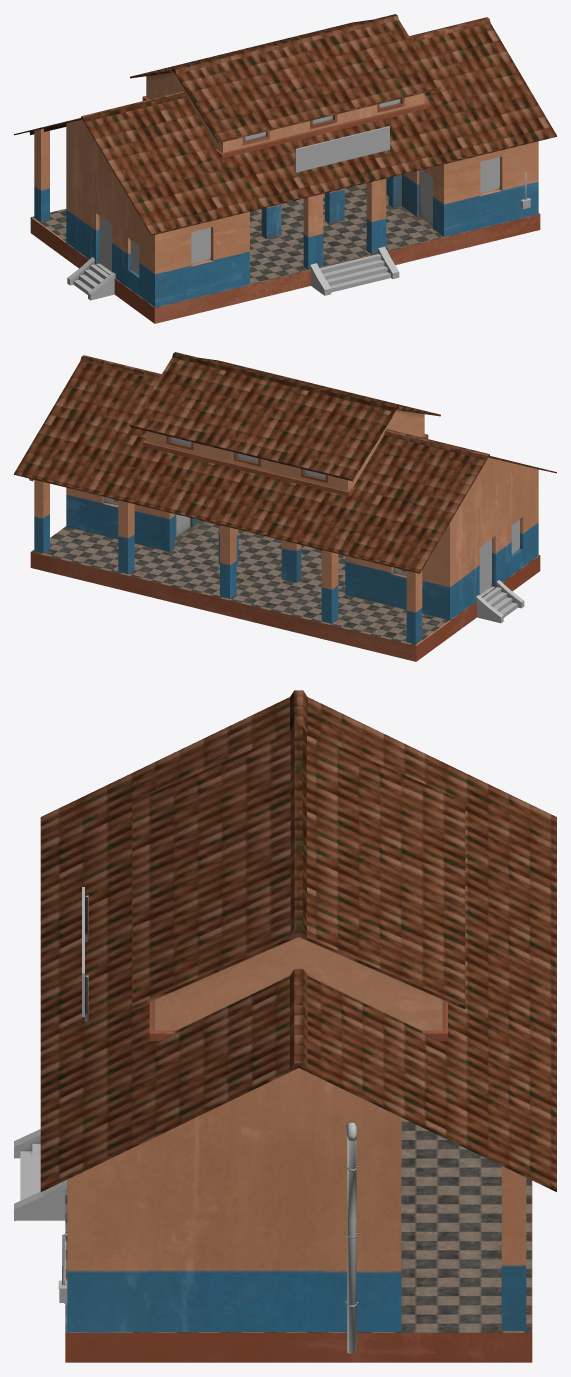
Rendered from indian_railway_station_building_game-ready.glb.
3 views of the same model, one above another, from view 1: azimuth 30°, elevation 25°; view 2: azimuth 150°, elevation 25°; view 3: azimuth 270°, elevation 25° (orthographic). The views are drawn at different scales.
Parts seen in each view (by area): view 1: Plane.004; view 2: Plane.004; view 3: Plane.004.
Boxes of the visible parts, left/top/right/bottom form: Plane.004: left=14, top=14, right=556, bottom=323; Plane.004: left=14, top=352, right=556, bottom=661; Plane.004: left=14, top=690, right=556, bottom=1362.
Size of the model in its own units: 1774 by 766 by 1056.
1 material, 1 textured.
